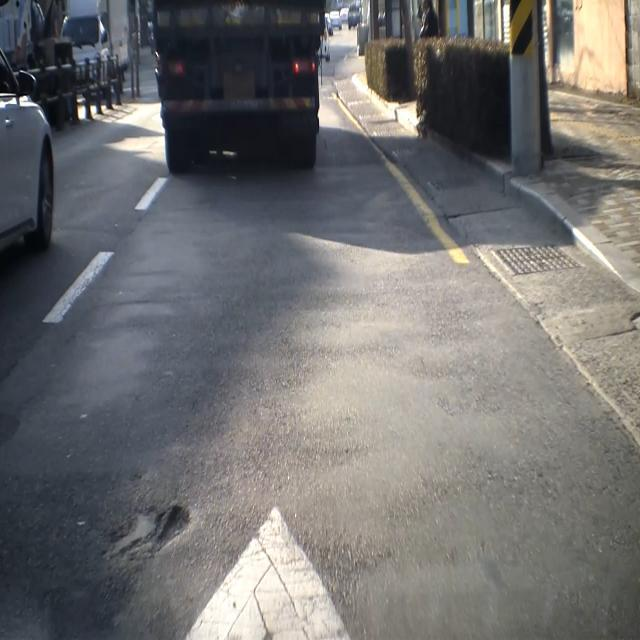Pothole: (105, 504, 190, 566)
